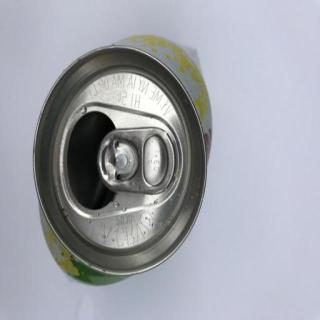Anorganik: (30, 31, 216, 292)
